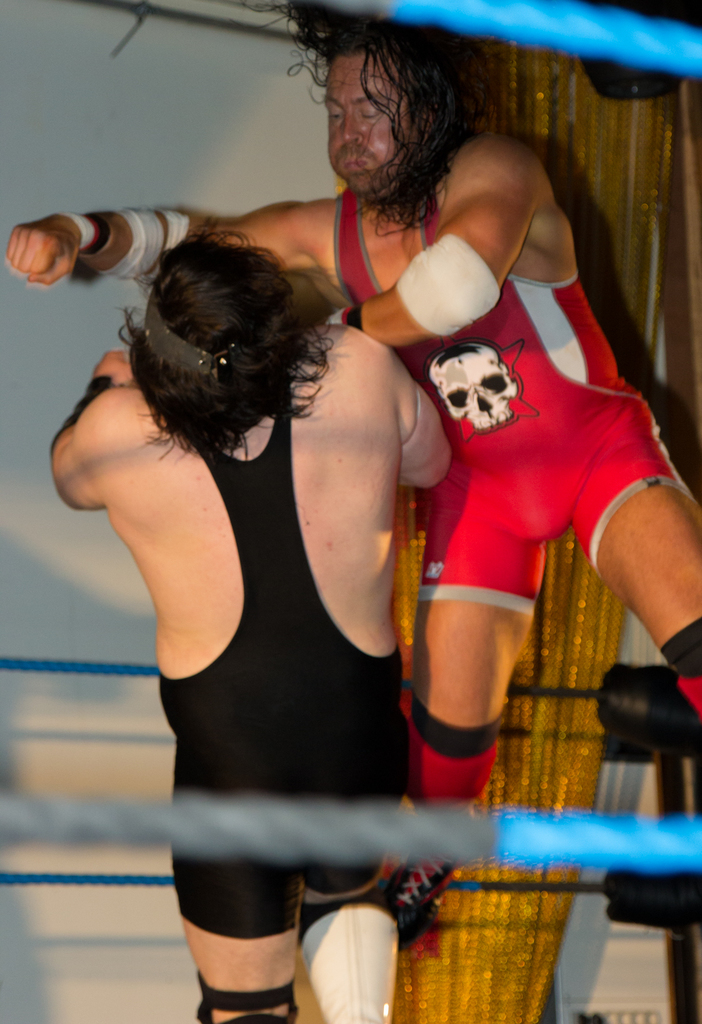Person: (1, 6, 702, 957), (50, 215, 452, 1023)
